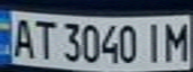0: (78, 20, 103, 64), (118, 20, 142, 64)
3: (57, 19, 81, 63)
4: (100, 21, 121, 65)
A: (6, 15, 36, 60)
I: (139, 19, 169, 63)
M: (160, 18, 193, 63)
T: (30, 17, 57, 61)
